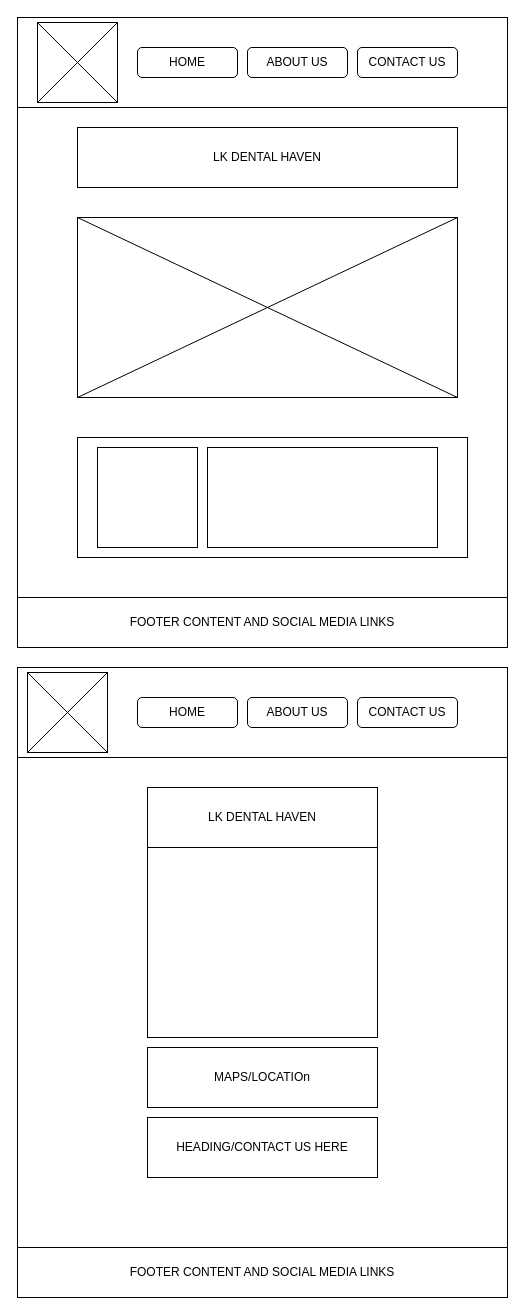
This 525x1315 diagram has some shape labels left out. Each missing label, with the box of its shape:
HEADING CONTACT US HERE: (206, 446, 438, 548)
MAPS: (96, 446, 198, 548)
MEDIUM IMAGE: (76, 216, 458, 398)
SMALL IMAGE: (146, 846, 378, 1038)
